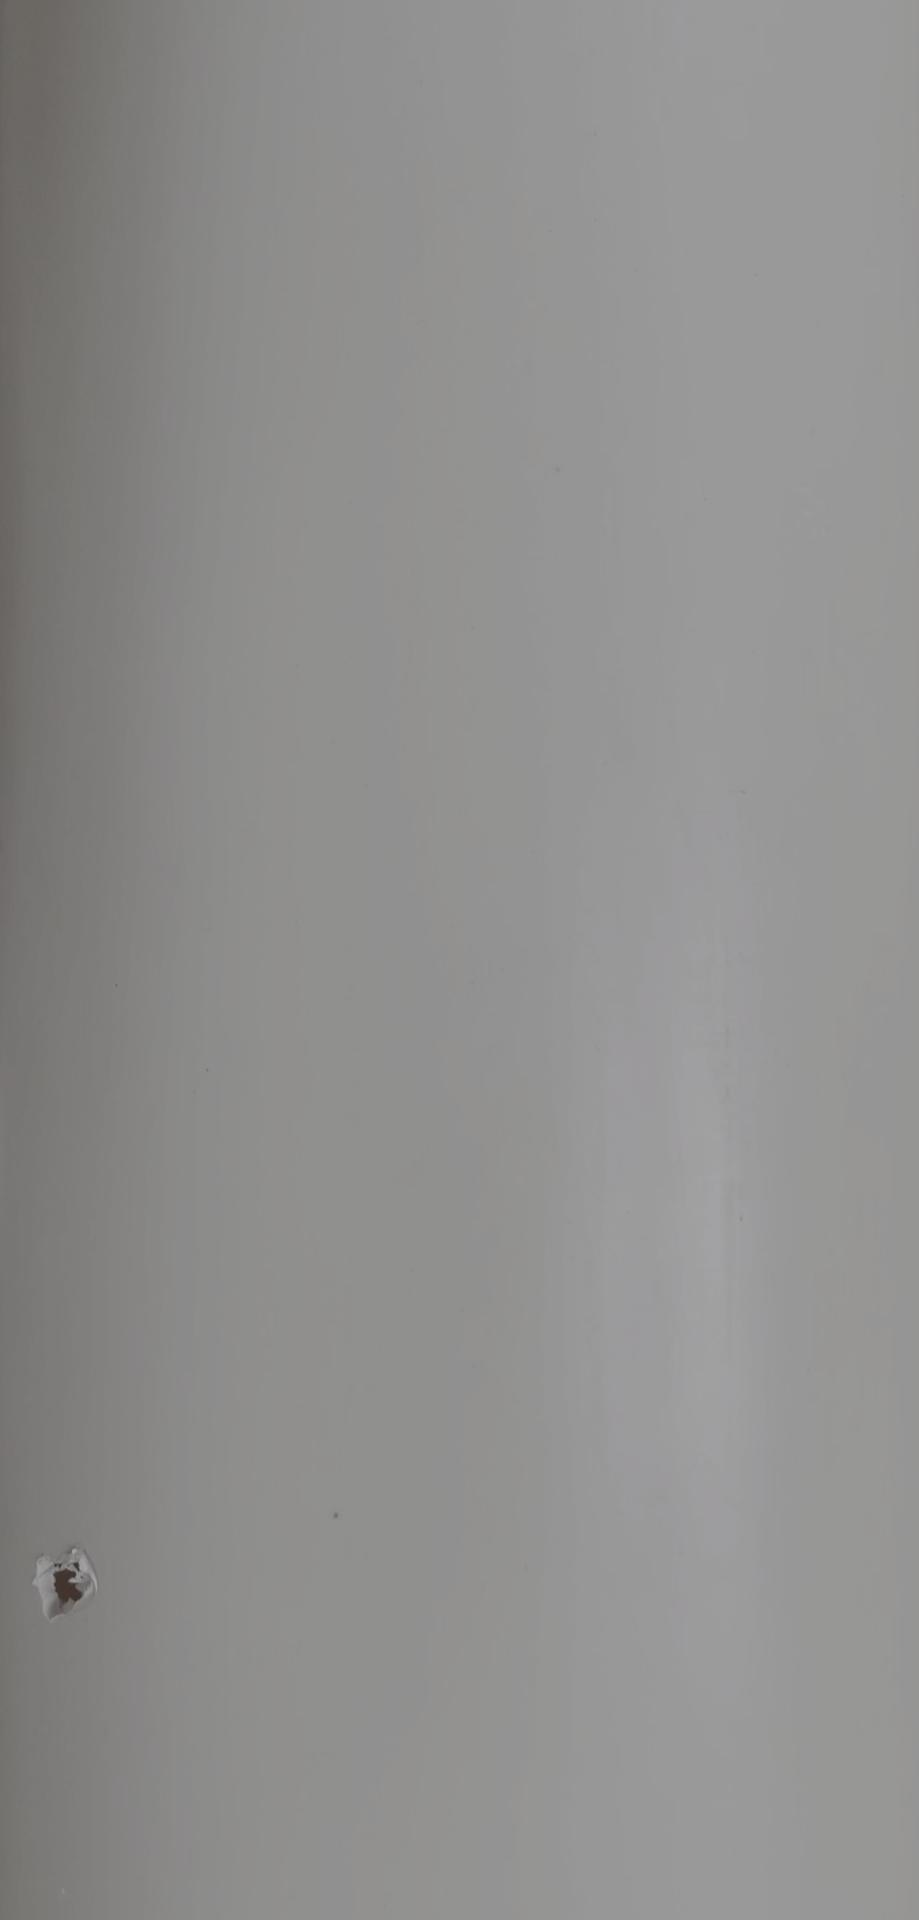kongdong: (27, 1551, 111, 1633)
